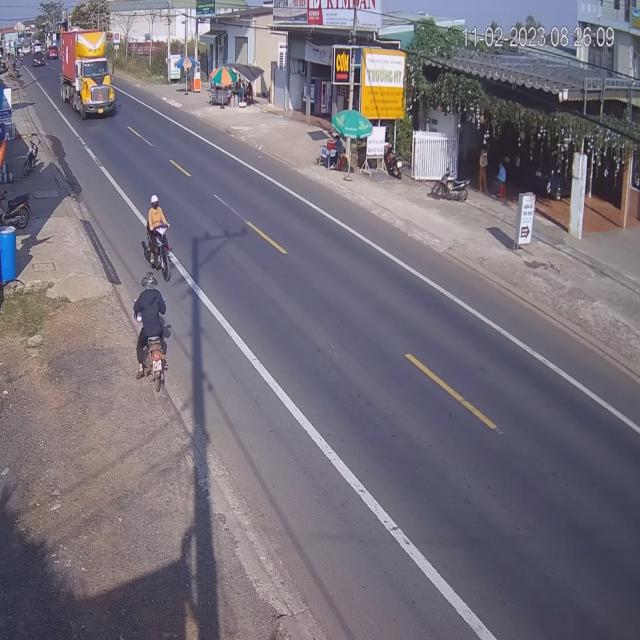motorbike: (135, 272, 171, 393), (144, 195, 172, 283)
truck: (61, 28, 113, 121)
